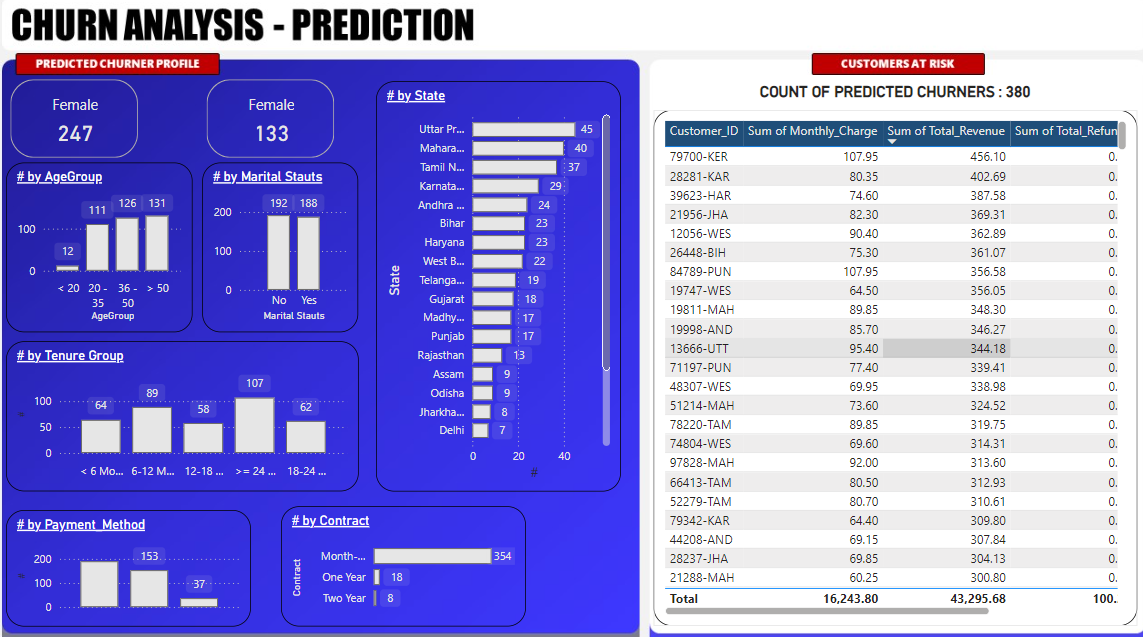

The dashboard page shown, as its layout file describes it:
{"tool":"powerbi","page":{"name":"Page 1","canvas":[1280,720],"ordinal":2},"visuals":[{"type":"tableEx","fields":{"Values":["Predicted_Data.Customer_ID","Sum(Predicted_Data.Monthly_Charge)","Sum(Predicted_Data.Total_Revenue)","Sum(Predicted_Data.Total_Refunds)","Sum(Predicted_Data.Number_of_Referrals)"]},"box":[727.3,131.7,531,566.7],"z":0},{"type":"card","fields":{"Values":["_Measures.Title Predicted Churners"]},"box":[727.3,93.3,531,38.4],"z":1},{"type":"cardVisual","fields":{"Data":["_Measures.Count Predicted Churner"]},"box":[16.5,93.3,150.9,96.1],"z":2},{"type":"cardVisual","fields":{"Data":["_Measures.Count Predicted Churner"]},"box":[231.9,93.3,150.9,96.1],"z":3},{"type":"clusteredColumnChart","fields":{"Category":["mapping_Agegrp.AgeGroup"],"Y":["CountNonNull(Predicted_Data.Customer_ID)"]},"box":[16.5,189.4,204.5,186.6],"z":4},{"type":"clusteredColumnChart","fields":{"Y":["CountNonNull(Predicted_Data.Customer_ID)"],"Category":["mapping_TenureGrp.Tenure Group"]},"box":[16.5,385.6,387,164.7],"z":5},{"type":"clusteredColumnChart","fields":{"Category":["Predicted_Data.Married"],"Y":["CountNonNull(Predicted_Data.Customer_ID)"]},"box":[231.9,189.4,171.5,186.6],"z":6},{"type":"clusteredBarChart","fields":{"Category":["Predicted_Data.Contract"],"Y":["CountNonNull(Predicted_Data.Customer_ID)"]},"box":[318.4,566.7,269,131.7],"z":7},{"type":"clusteredBarChart","fields":{"Y":["CountNonNull(Predicted_Data.Customer_ID)"],"Category":["Predicted_Data.State"]},"box":[422.6,100.2,269,450.1],"z":8},{"type":"clusteredColumnChart","fields":{"Y":["CountNonNull(Predicted_Data.Customer_ID)"],"Category":["Predicted_Data.Payment_Method"]},"box":[16.5,570.8,269,127.6],"z":9}]}

Visuals, with their boxes in screenshot pixels (x1, y1, x2, y2), scaled from the page's 1280x720 canvas onto the 1143x637 screenshot:
tableEx - Predicted_Data.Customer_ID x Sum(Predicted_Data.Monthly_Charge): (x1=649, y1=117, x2=1124, y2=618)
card - _Measures.Title Predicted Churners: (x1=649, y1=83, x2=1124, y2=117)
cardVisual - _Measures.Count Predicted Churner: (x1=15, y1=83, x2=149, y2=168)
cardVisual - _Measures.Count Predicted Churner: (x1=207, y1=83, x2=342, y2=168)
clusteredColumnChart - mapping_Agegrp.AgeGroup x CountNonNull(Predicted_Data.Customer_ID): (x1=15, y1=168, x2=197, y2=333)
clusteredColumnChart - CountNonNull(Predicted_Data.Customer_ID) x mapping_TenureGrp.Tenure Group: (x1=15, y1=341, x2=360, y2=487)
clusteredColumnChart - Predicted_Data.Married x CountNonNull(Predicted_Data.Customer_ID): (x1=207, y1=168, x2=360, y2=333)
clusteredBarChart - Predicted_Data.Contract x CountNonNull(Predicted_Data.Customer_ID): (x1=284, y1=501, x2=525, y2=618)
clusteredBarChart - CountNonNull(Predicted_Data.Customer_ID) x Predicted_Data.State: (x1=377, y1=89, x2=618, y2=487)
clusteredColumnChart - CountNonNull(Predicted_Data.Customer_ID) x Predicted_Data.Payment_Method: (x1=15, y1=505, x2=255, y2=618)
